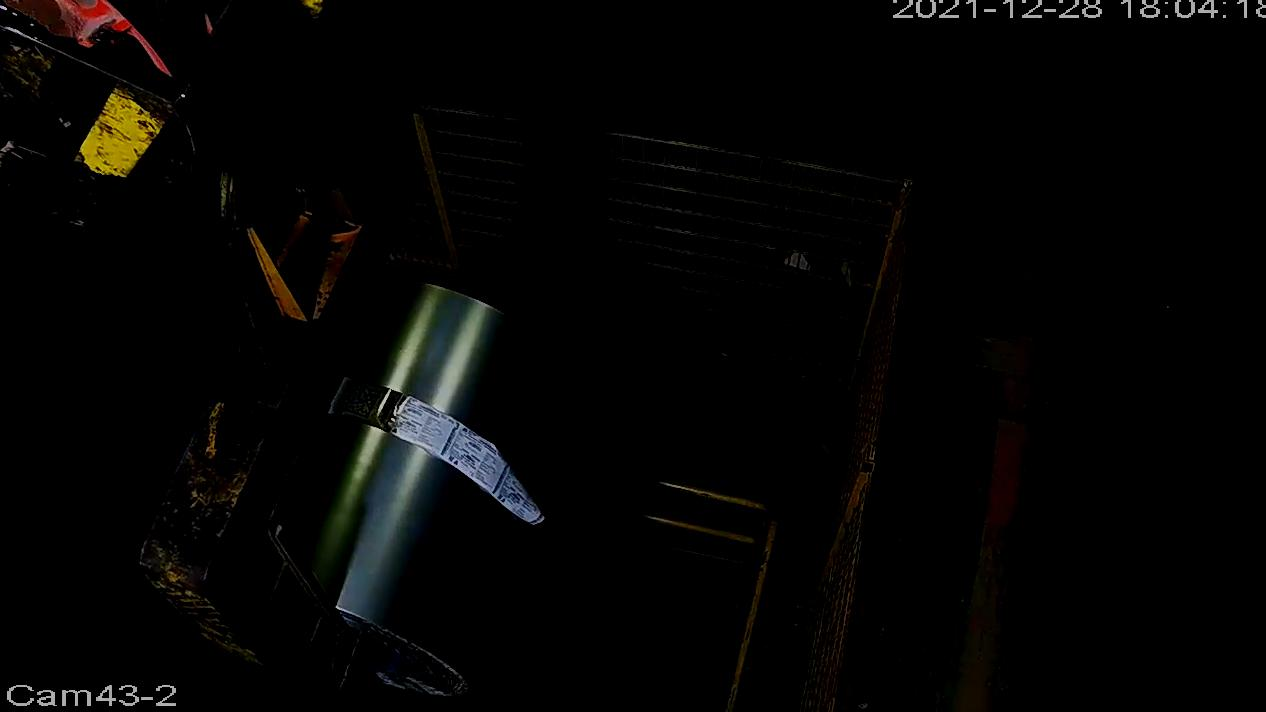data matrix: (338, 380, 386, 421)
